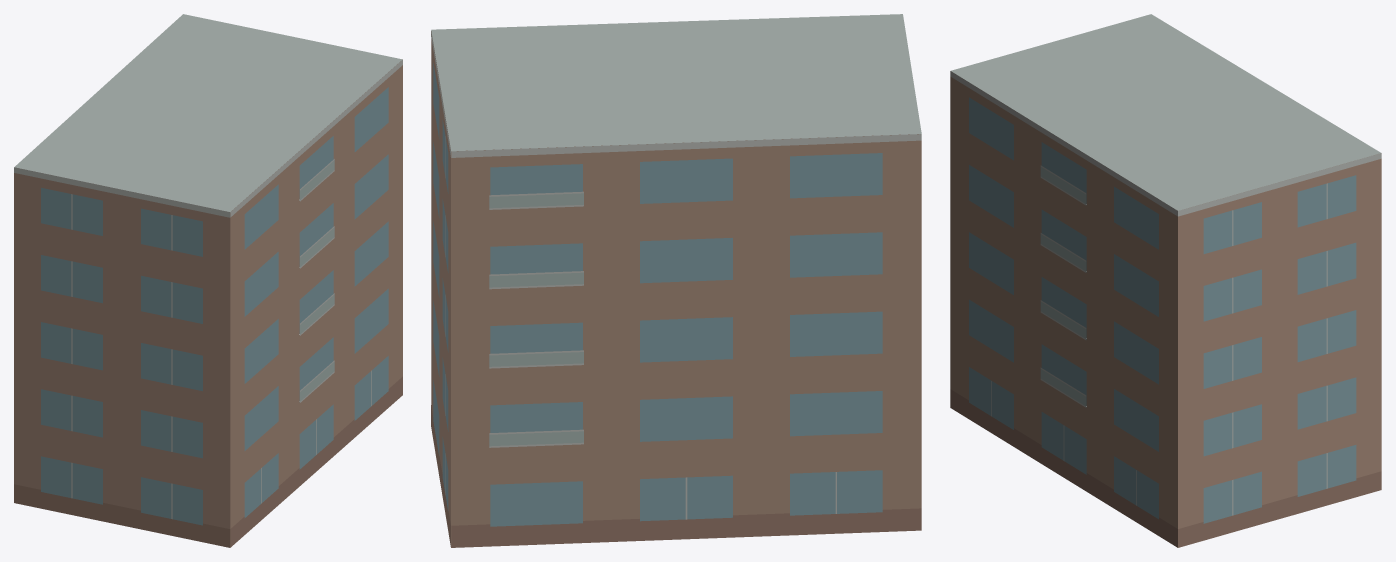
Rendered from survey-upis-32987789.glb.
3 renders of one model, left to right at view 1: azimuth 30°, elevation 25°; view 2: azimuth 150°, elevation 25°; view 3: azimuth 270°, elevation 25°, orthographic. The views are drawn at different scales.
Parts seen in each view (by area): view 1: survey-upis-32987789.tmp; view 2: survey-upis-32987789.tmp; view 3: survey-upis-32987789.tmp.
Part boxes in pixels (x1=…): survey-upis-32987789.tmp: x1=14, y1=14, x2=402, y2=547; survey-upis-32987789.tmp: x1=431, y1=14, x2=921, y2=547; survey-upis-32987789.tmp: x1=950, y1=14, x2=1381, y2=547.
Bounding box in the file's own units: 18.18 × 14.5 × 16.82.
